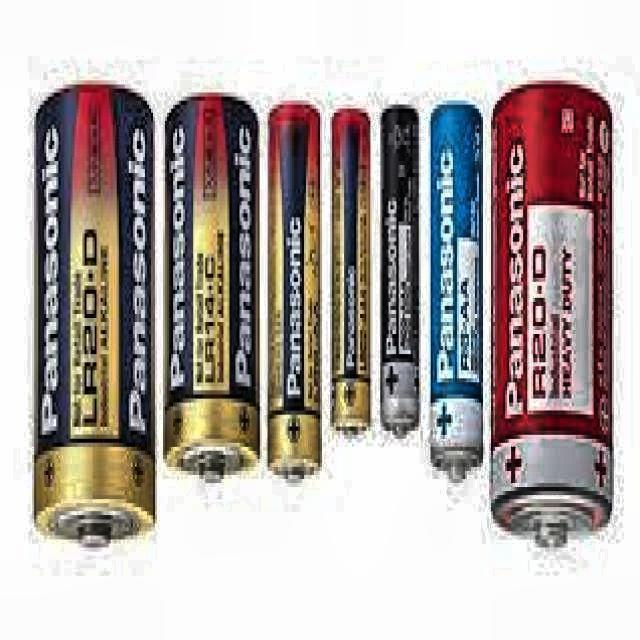battery: (34, 85, 156, 551), (491, 89, 610, 547), (164, 94, 261, 483), (267, 102, 323, 483), (430, 102, 483, 483), (330, 109, 371, 436), (380, 108, 420, 440)
